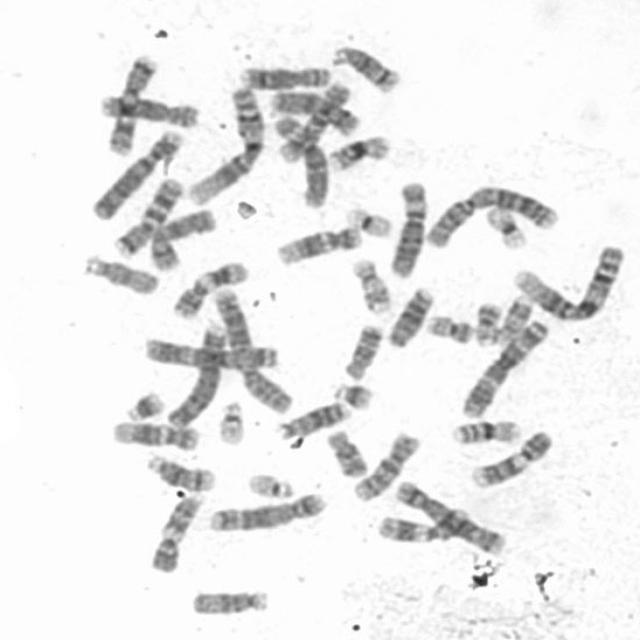A1: (181, 80, 267, 208), (508, 238, 627, 324)
A2: (209, 282, 297, 413), (419, 178, 564, 248)
A3: (456, 314, 552, 419), (139, 331, 281, 370)
B4: (85, 123, 187, 221), (161, 316, 230, 431)
B5: (390, 475, 508, 556), (204, 487, 330, 533)
C10: (272, 76, 354, 164), (348, 426, 423, 504)
C11: (166, 255, 251, 320), (372, 500, 472, 544)
C12: (271, 219, 367, 267), (106, 414, 203, 452)
C6: (268, 109, 330, 209), (383, 175, 430, 279)
C7: (106, 170, 186, 258), (103, 47, 162, 156)
C8: (94, 88, 204, 129), (236, 59, 335, 90)
C9: (466, 424, 556, 490), (146, 486, 208, 574)
D13: (383, 281, 438, 349), (273, 395, 353, 440)
D14: (327, 38, 404, 94), (142, 448, 218, 493)
D15: (80, 250, 162, 296), (186, 583, 272, 617)
E16: (324, 129, 394, 172), (445, 414, 524, 446)
E17: (347, 253, 396, 316), (493, 289, 535, 345)
E18: (338, 318, 386, 381), (322, 423, 372, 478)
F19: (480, 200, 530, 251), (340, 201, 396, 239)
F20: (422, 309, 475, 345), (470, 296, 504, 347)
G21: (119, 384, 168, 422), (328, 376, 376, 411)
G22: (242, 466, 298, 501), (212, 394, 248, 446)
X: (145, 202, 218, 272), (265, 84, 361, 136)
